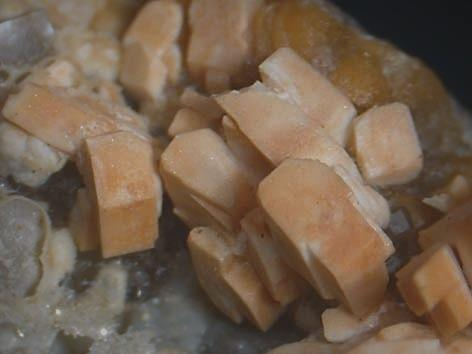calcite: (160, 1, 424, 332), (2, 57, 162, 258), (399, 210, 472, 338), (119, 1, 183, 128)
